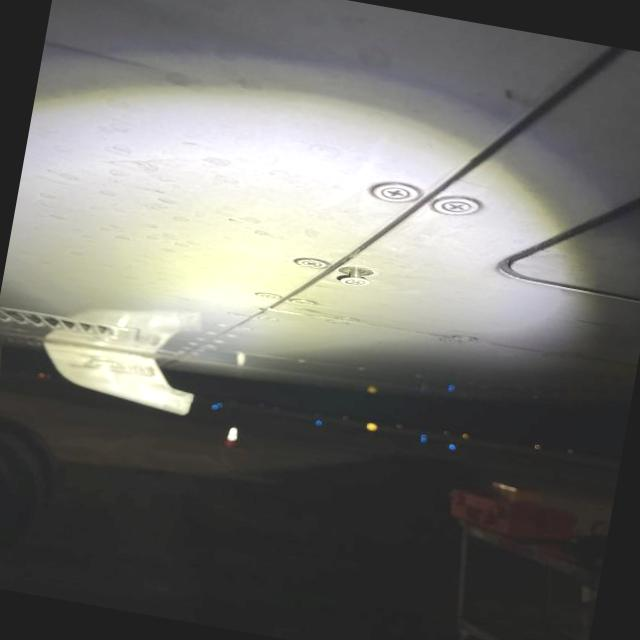Missing Fastener: (329, 260, 389, 304)
